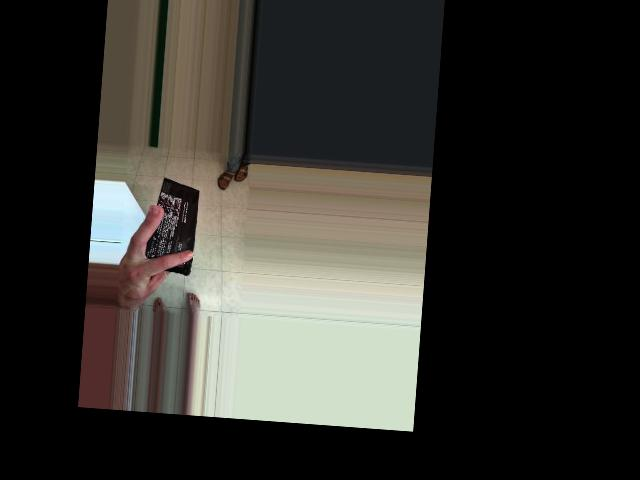chocolate: (134, 170, 202, 284)
